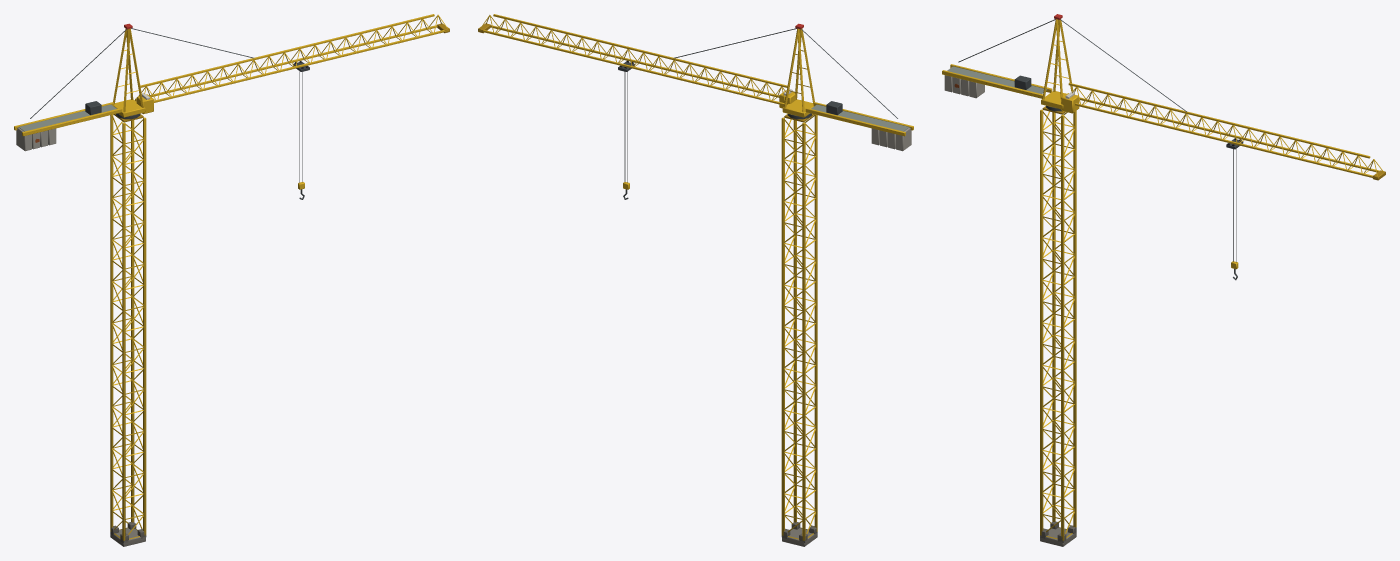
Rendered from 46_grue_tour.fbx.
The picture shows the model from 3 angles, left to right: view 1: azimuth 30°, elevation 25°; view 2: azimuth 150°, elevation 25°; view 3: azimuth 330°, elevation 25°; orthographic projection.
Visible parts, largest first — view 1: Mat, PartieTournante; view 2: Mat, PartieTournante; view 3: Mat, PartieTournante.
Boxes of the visible parts, x1,y1,x2,y2 form: Mat: (110, 114, 146, 546); PartieTournante: (14, 14, 449, 151); Mat: (781, 114, 817, 546); PartieTournante: (478, 14, 913, 151); Mat: (1040, 106, 1076, 546); PartieTournante: (942, 14, 1385, 180).
Size of the model in its own units: 20.72 by 23.8 by 1.12.
Materials: 1 (1 with a texture image).
